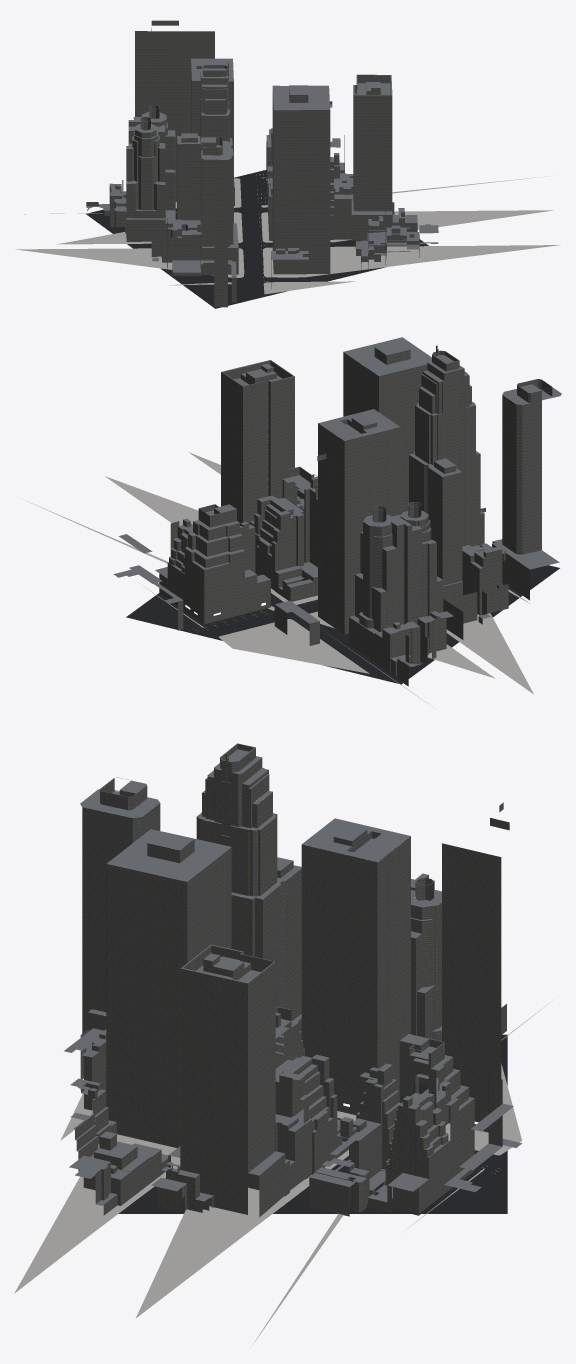
3 renders of one model, top to bottom at view 1: azimuth 30°, elevation 25°; view 2: azimuth 150°, elevation 25°; view 3: azimuth 270°, elevation 25°, orthographic. The views are drawn at different scales.
Visible parts, largest first — view 1: t4_5, detail; view 2: t4_5, detail; view 3: t4_5, detail.
Part boxes in pixels (x1,y1,x2,y2): t4_5: (86,20,438,308); detail: (15,174,560,294); t4_5: (113,337,561,686); detail: (22,452,533,707); t4_5: (64,743,521,1217); detail: (14,999,554,1345).
Size of the model in its own units: 539 by 219 by 323.
Materials: 5 (2 with a texture image).
